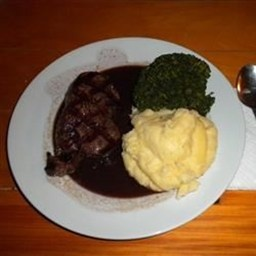background: (18, 20, 87, 79)
